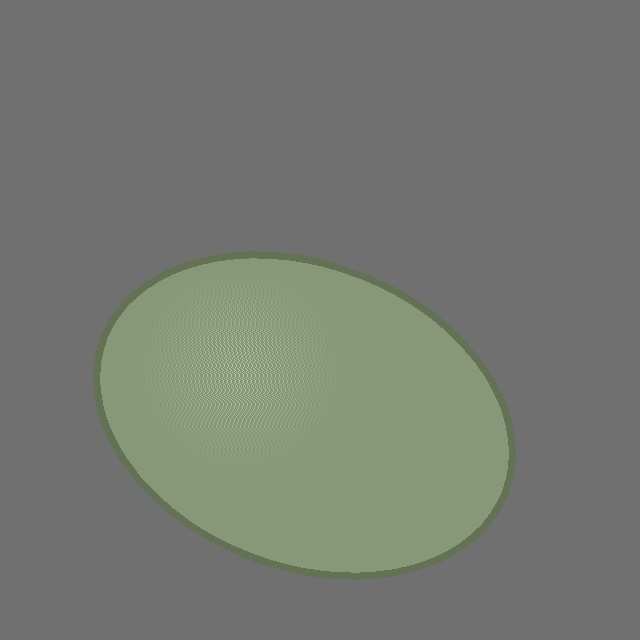lens: (96, 254, 512, 576)
